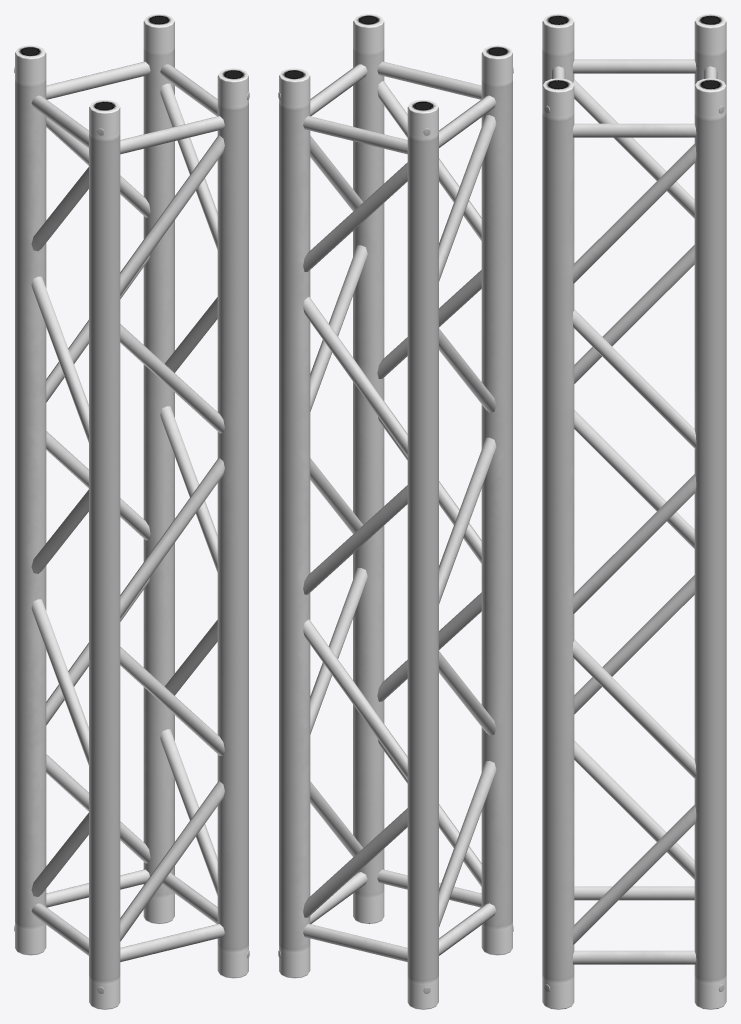
Rendered from SM_Truss_200_Straight.fbx.
The picture shows the model from 3 angles, left to right: view 1: azimuth 30°, elevation 25°; view 2: azimuth 150°, elevation 25°; view 3: azimuth 270°, elevation 25°; orthographic projection. The views are drawn at different scales.
Visible parts, largest first — view 1: SM_Truss_200_Straight_LOD0; view 2: SM_Truss_200_Straight_LOD0; view 3: SM_Truss_200_Straight_LOD0.
Boxes of the visible parts, x1=… form: SM_Truss_200_Straight_LOD0: x1=14, y1=14, x2=249, y2=1009; SM_Truss_200_Straight_LOD0: x1=278, y1=14, x2=513, y2=1009; SM_Truss_200_Straight_LOD0: x1=542, y1=14, x2=726, y2=1009.
Size of the model in its own units: 36.32 by 36.32 by 200.
Materials: 1 (1 with a texture image).
